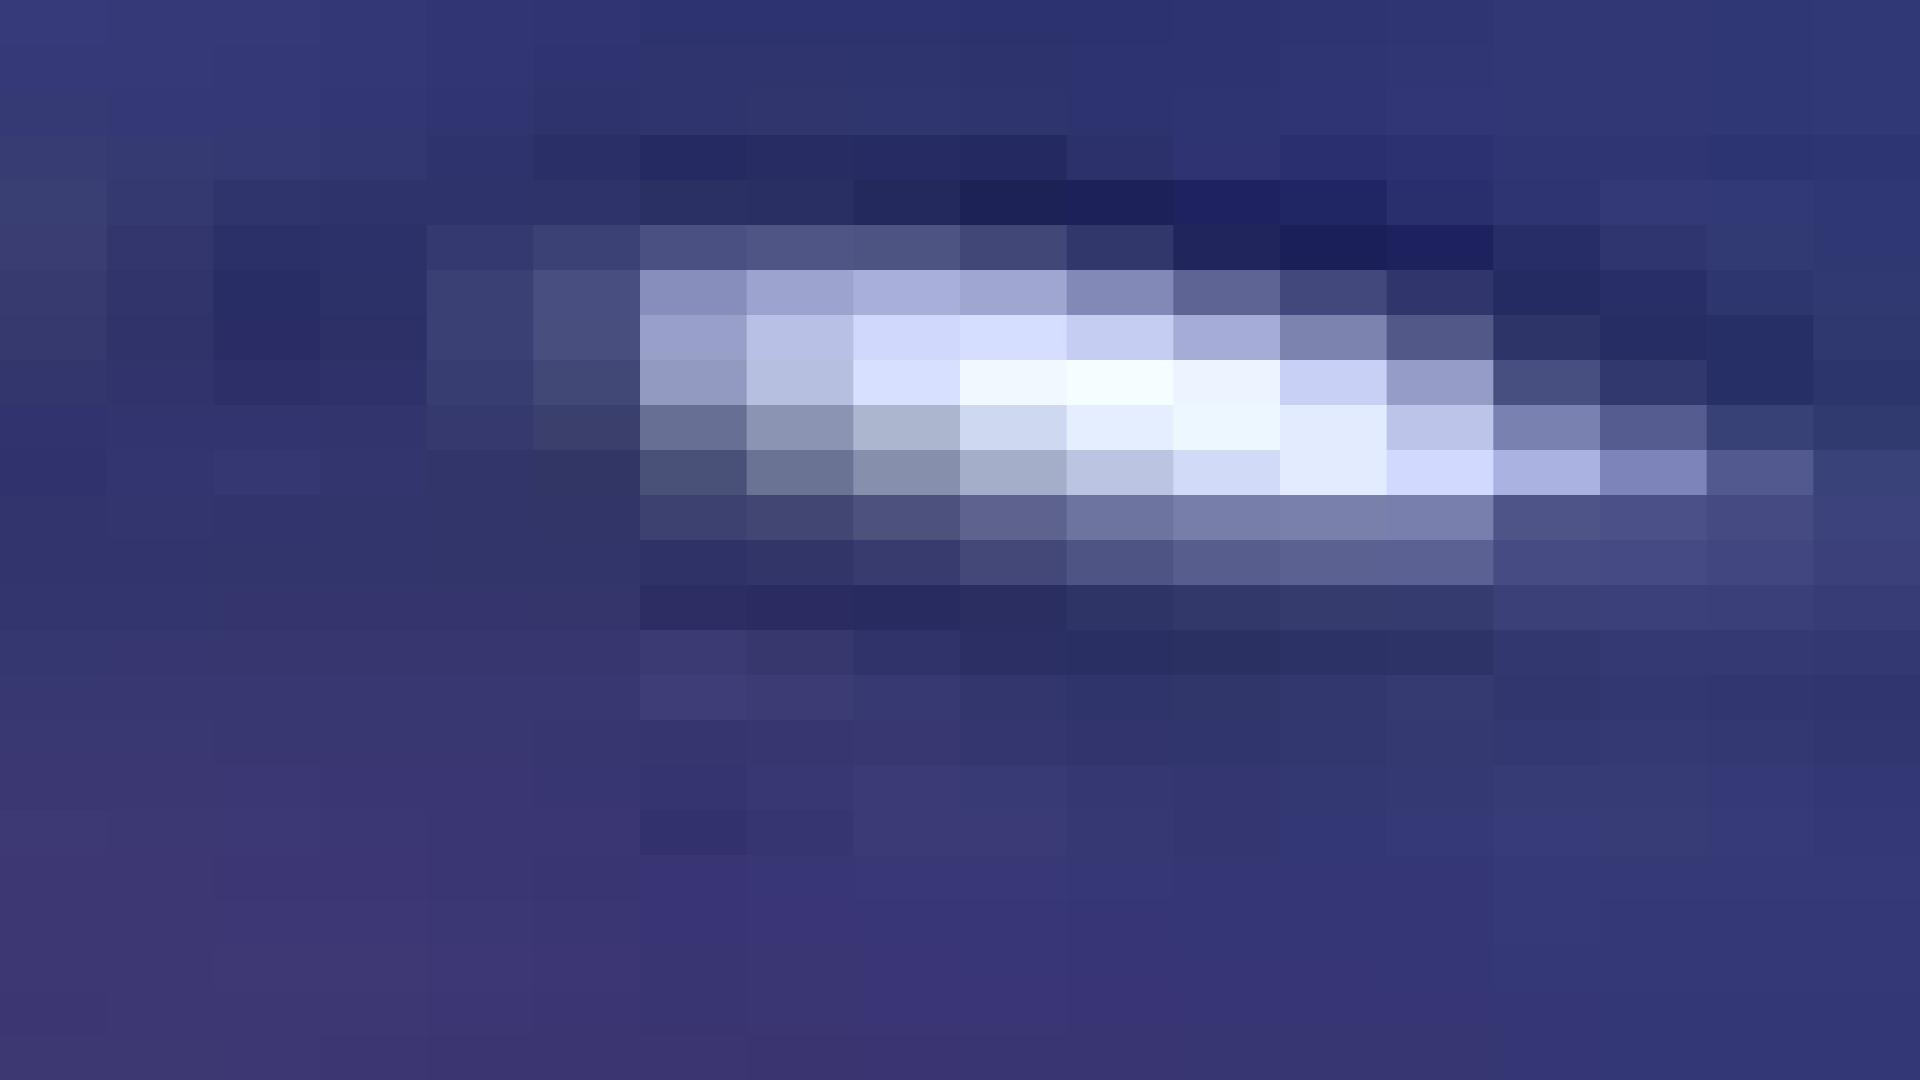Squash-Ball: (105, 0, 1920, 1080)
